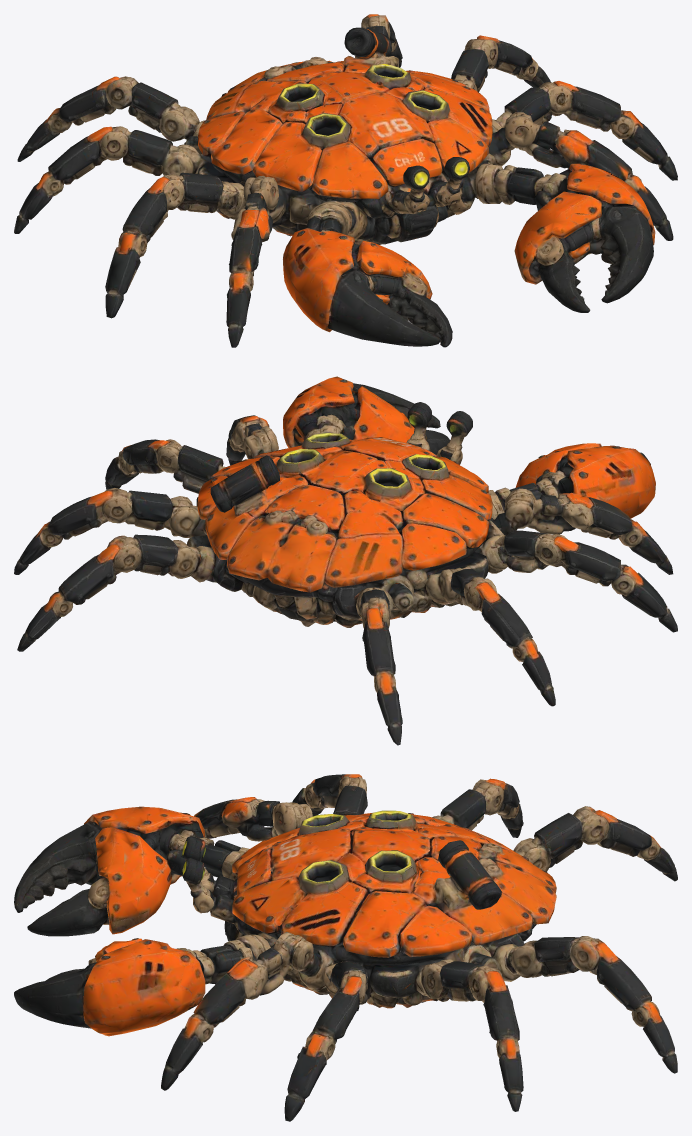
File: crab.glb
3 renders of one model, top to bottom at view 1: azimuth 30°, elevation 25°; view 2: azimuth 150°, elevation 25°; view 3: azimuth 270°, elevation 25°, orthographic. The views are drawn at different scales.
Size of the model in its own units: 3.4 by 0.8821 by 3.26.
Materials: 1 (1 with a texture image).
